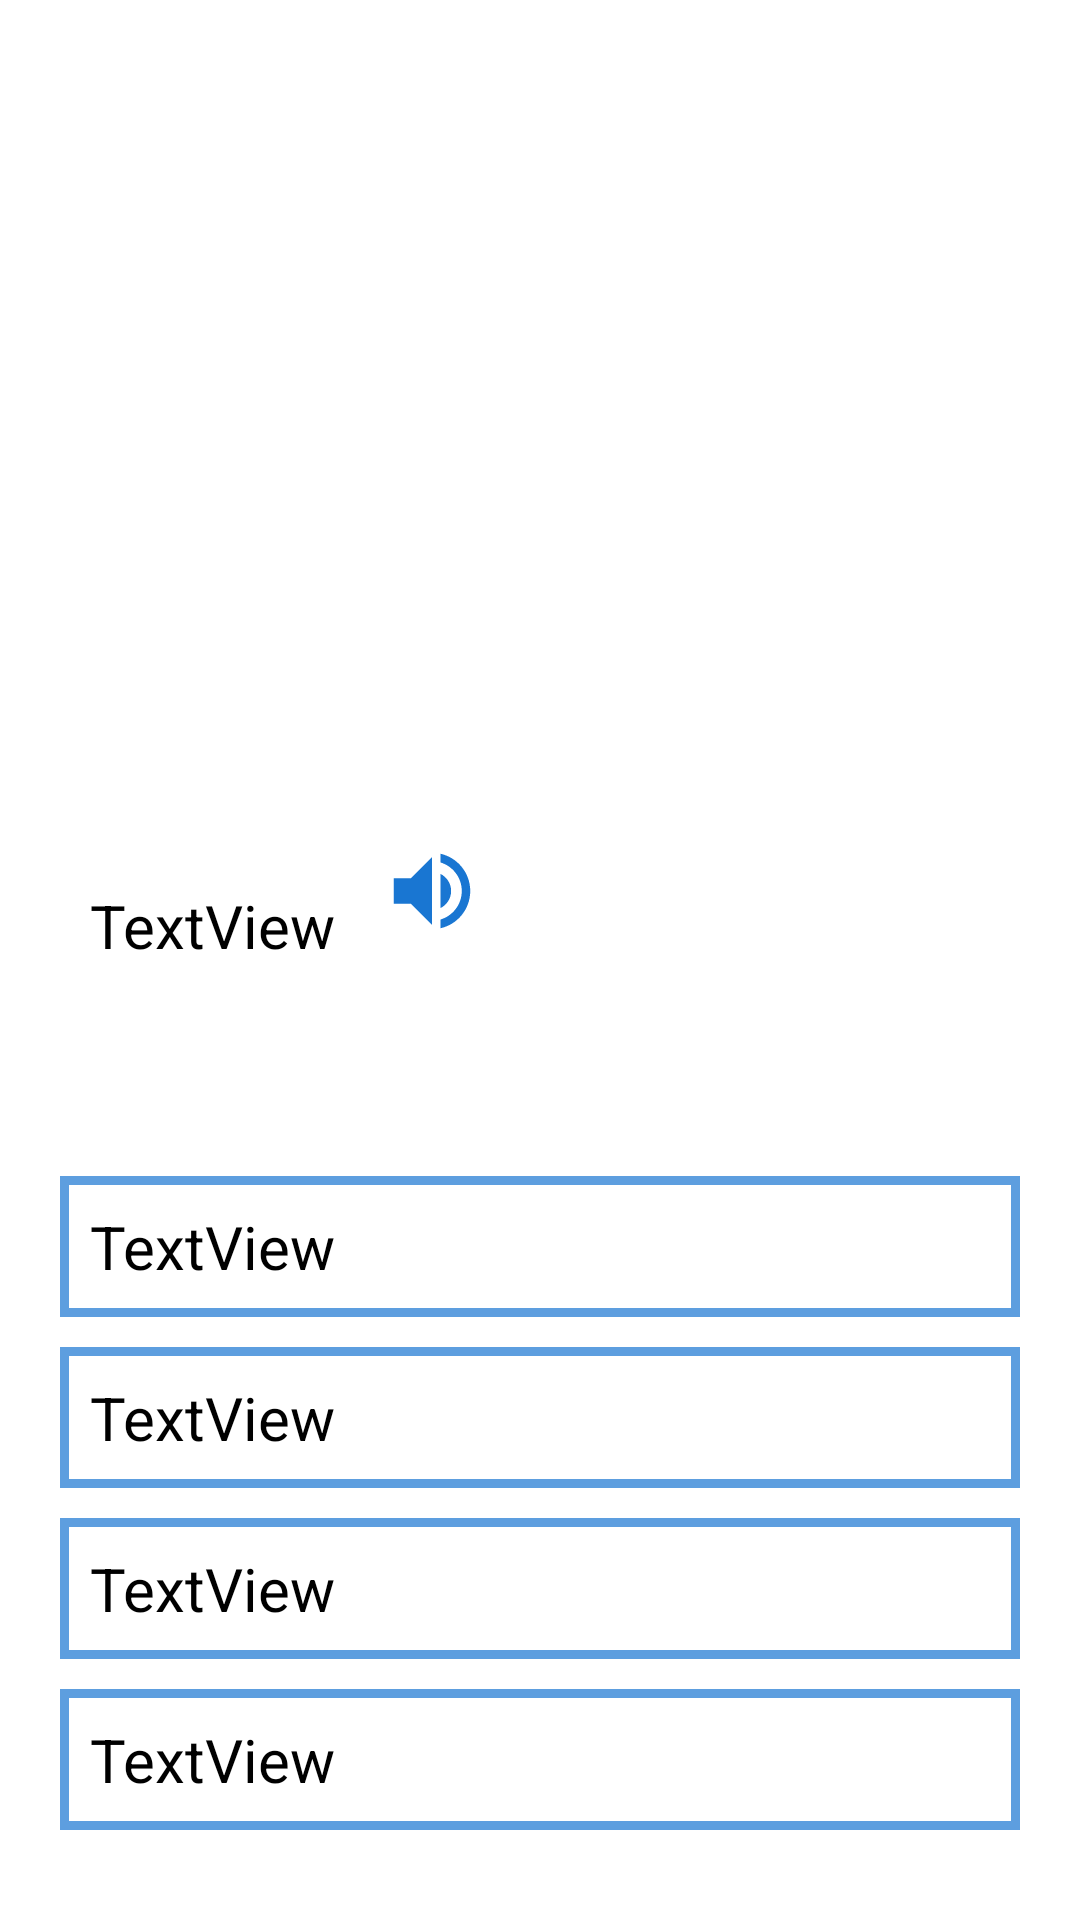

Screen size 1080*1920. Icon name, then its center in pixels as (x=x, y=y):
volume up: (x=432, y=891)
